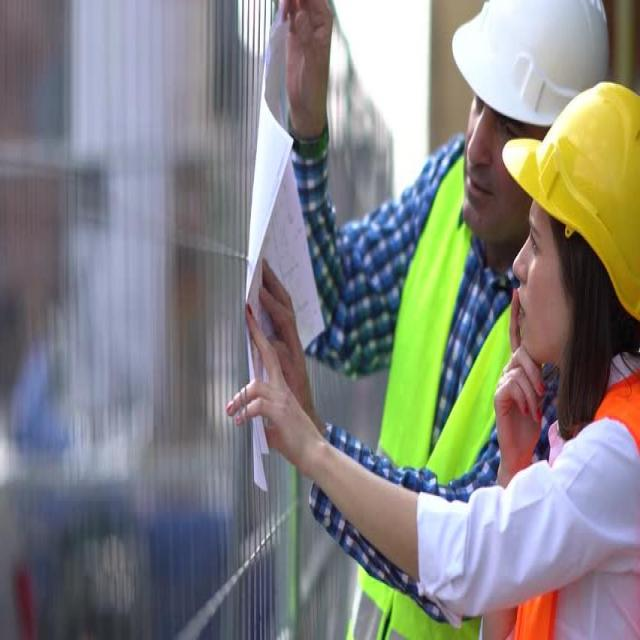Reflective-Jacket: (340, 167, 513, 630), (493, 337, 640, 640)
Safety-Helmet: (508, 77, 640, 316), (449, 0, 618, 125)
